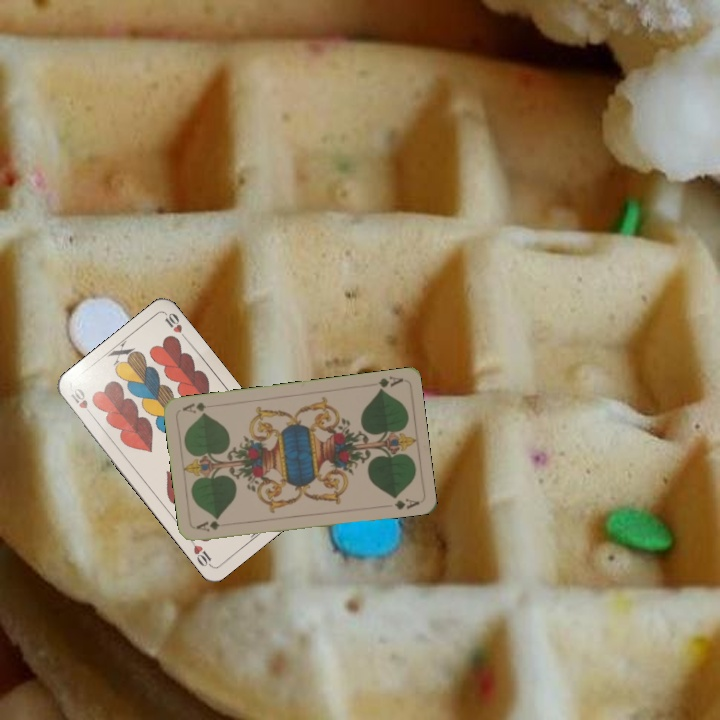GA: (374, 372, 405, 394), (193, 517, 222, 534)
H10: (66, 384, 96, 420)
